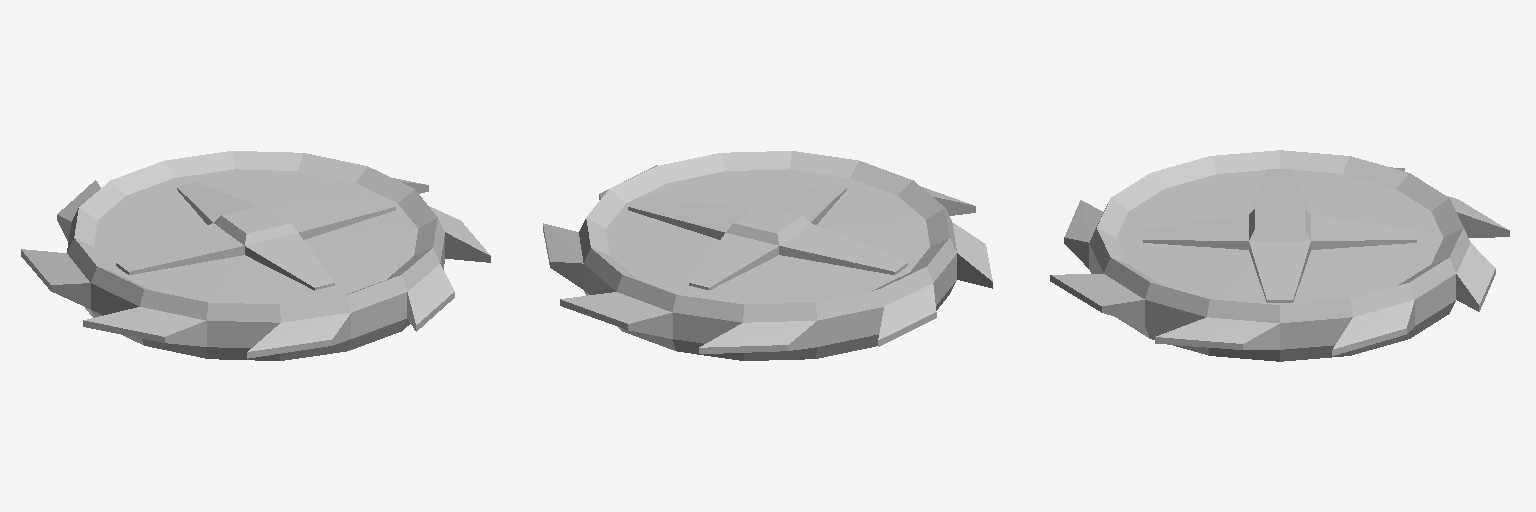
File: PropSaw.obj
3 views of the same model, side by side, from view 1: azimuth 30°, elevation 25°; view 2: azimuth 150°, elevation 25°; view 3: azimuth 270°, elevation 25° (orthographic).
Visible parts, largest first — view 1: pCylinder4; view 2: pCylinder4; view 3: pCylinder4.
Part boxes in pixels (x1,y1,x2,y2): pCylinder4: (21, 151, 490, 360); pCylinder4: (543, 151, 992, 360); pCylinder4: (1050, 150, 1509, 361).
Bounding box in the file's own units: 10.31 × 1.82 × 10.31.